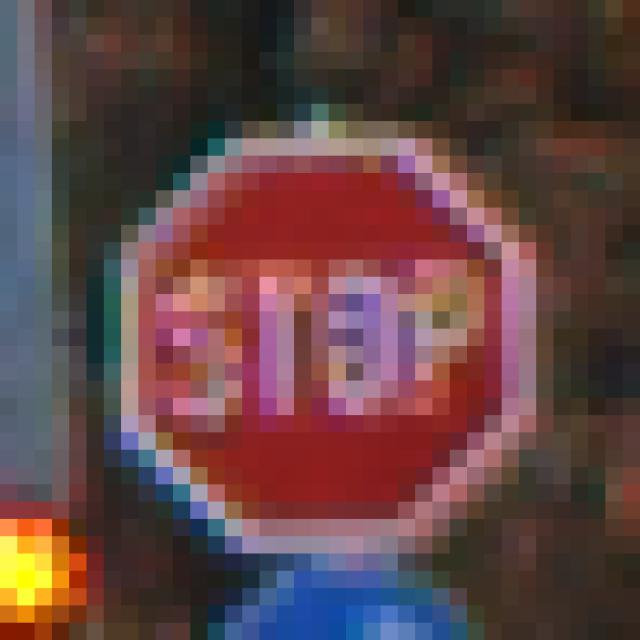STOP: (105, 105, 554, 554)
